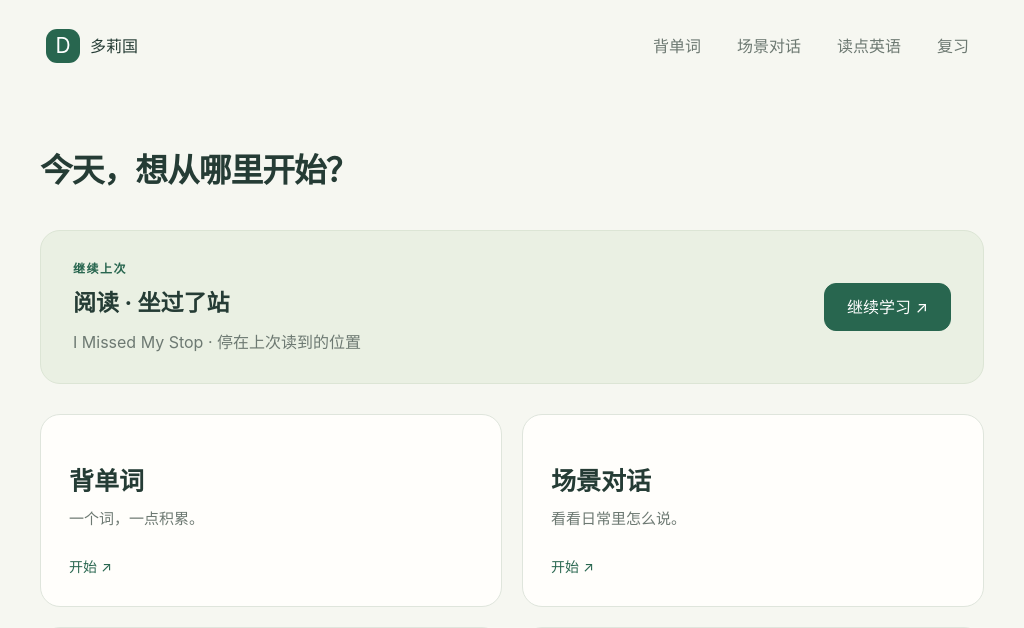
Test case: opens incremental reading reading-missed-my-stop from home resume
This screenshot has width=1024, height=628.
Step 1. Click the button "继续学习 ↗" → click(888, 307), box [824,283,951,332]
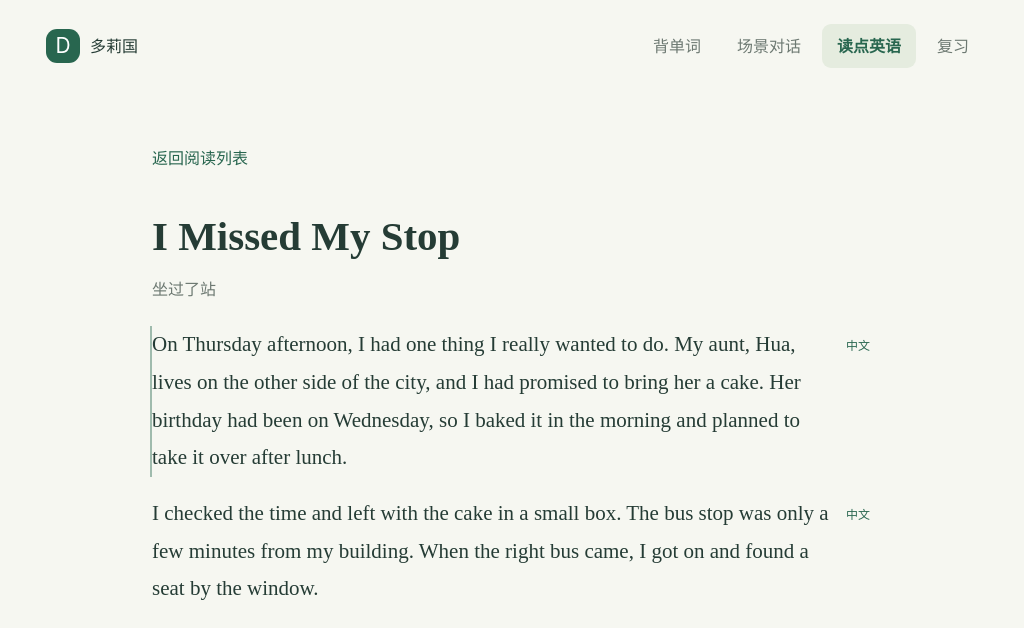
Expected: the heading "I Missed My Stop" is shown, [152,213,460,259]
